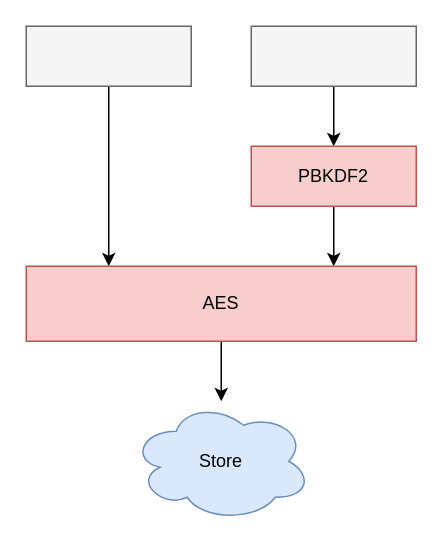
Some shapes in this 443 by 548 pixel diagram are drawn without their labels. Here are the shapes that lost their labels. From the top down, the centre of each, then its label:
the point at 108,55: Secret
the point at 333,55: Password
